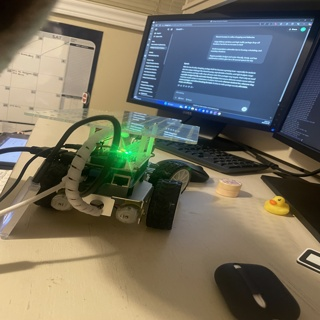vehicle: (35, 95, 197, 237)
